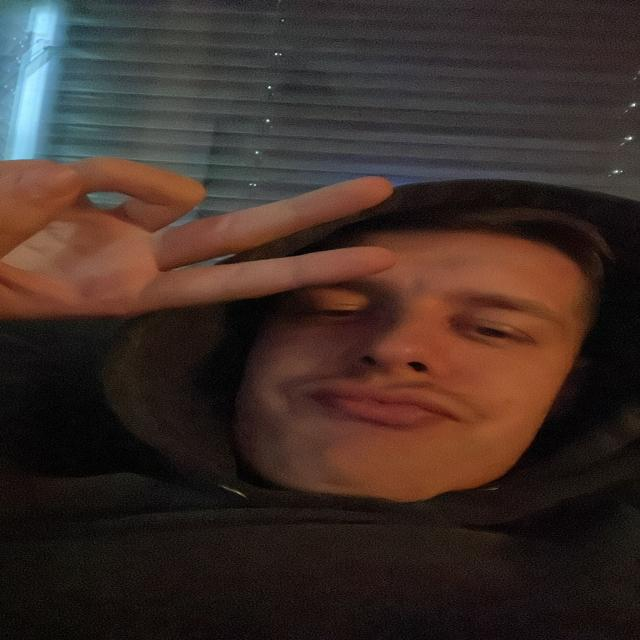JeremiasDiaz: (232, 202, 592, 508)
